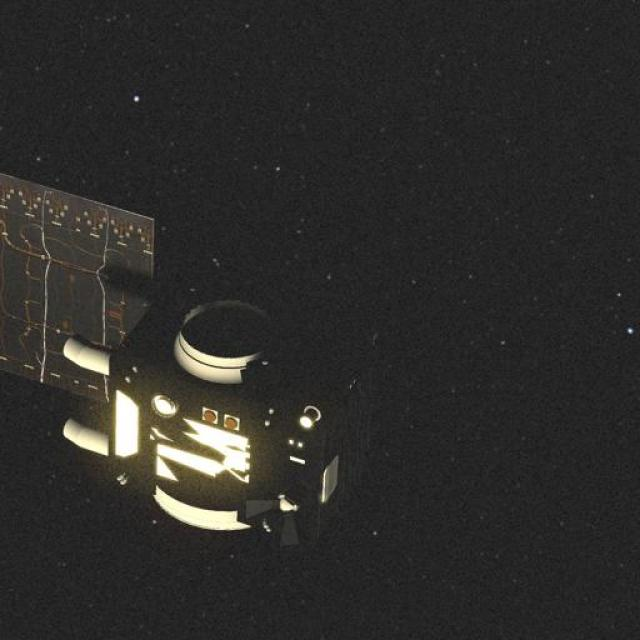proba_3_csc: (0, 167, 355, 562)
